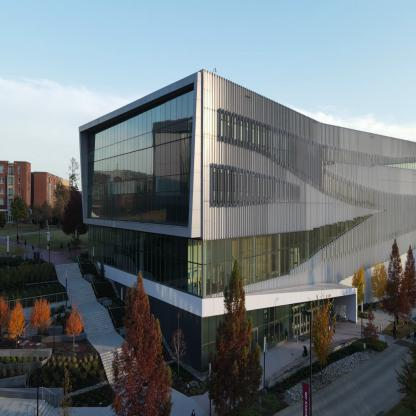Hunt Library: (55, 70, 415, 384)
